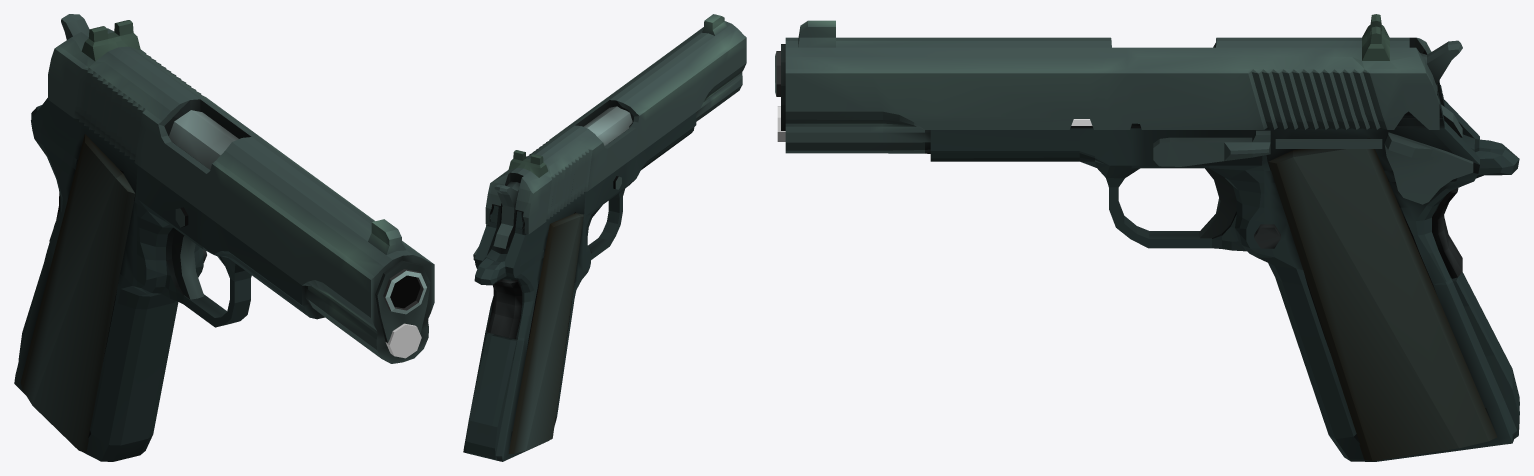
Rendered from colt_1911_a1_fixed_b.FBX.
The picture shows the model from 3 angles, left to right: view 1: azimuth 30°, elevation 25°; view 2: azimuth 150°, elevation 25°; view 3: azimuth 270°, elevation 25°; orthographic projection. The views are drawn at different scales.
Parts seen in each view (by area): view 1: slide, reciever, stock, barrel, barrel bushing, trigger, recoil spring plug, hammer; view 2: slide, reciever, stock, grip safety, hammer, barrel; view 3: slide, stock, reciever, safety, slide stop, trigger, grip safety, hammer, plunger tube.
Part boxes in pixels (x1,y1,x2,y2): slide: [48, 20, 434, 363]; reciever: [14, 98, 324, 461]; stock: [20, 134, 135, 452]; barrel: [169, 110, 426, 314]; barrel bushing: [375, 260, 430, 342]; trigger: [172, 230, 204, 299]; recoil spring plug: [385, 323, 421, 358]; hammer: [61, 14, 89, 39]; slide: [485, 14, 746, 234]; reciever: [463, 112, 696, 461]; stock: [508, 213, 583, 453]; grip safety: [487, 279, 522, 338]; hammer: [493, 181, 520, 248]; barrel: [583, 106, 632, 145]; slide: [785, 14, 1439, 153]; stock: [1268, 138, 1497, 461]; reciever: [930, 81, 1519, 461]; safety: [1384, 132, 1473, 204]; slide stop: [1153, 130, 1270, 166]; trigger: [1198, 168, 1236, 238]; grip safety: [1432, 188, 1462, 278]; hammer: [1420, 40, 1462, 137]; plunger tube: [1275, 139, 1382, 148].
Bounding box in the file's own units: 0.0273 × 0.1265 × 0.2.
